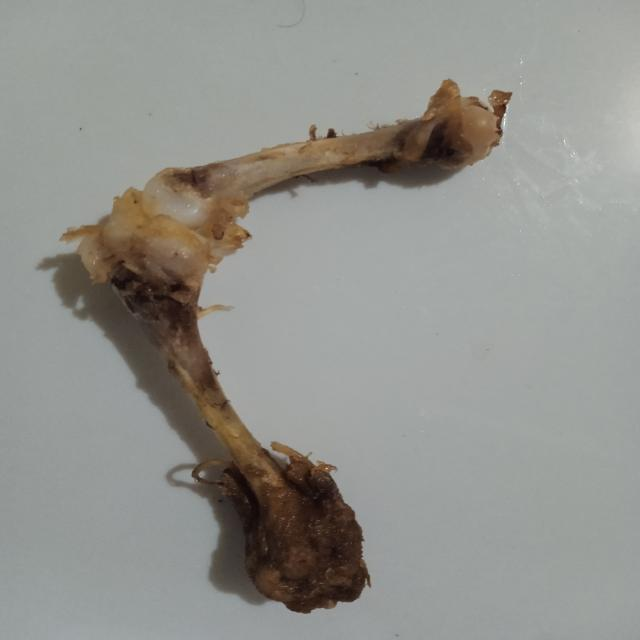bone: (42, 75, 544, 622)
